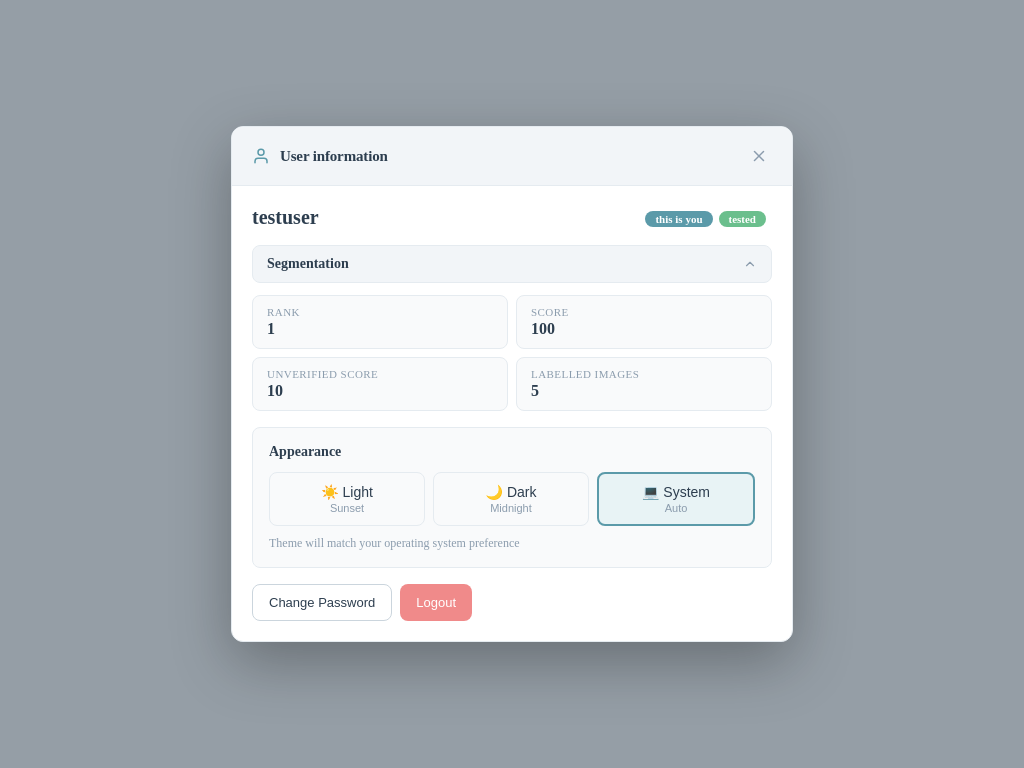
Test case: UserProfileModal - Password Change › allows canceling password change
The width and height of the screenshot is (1024, 768).
Click the button "Change Password" at [322, 602], box [252, 584, 392, 621]
(page scrolled)
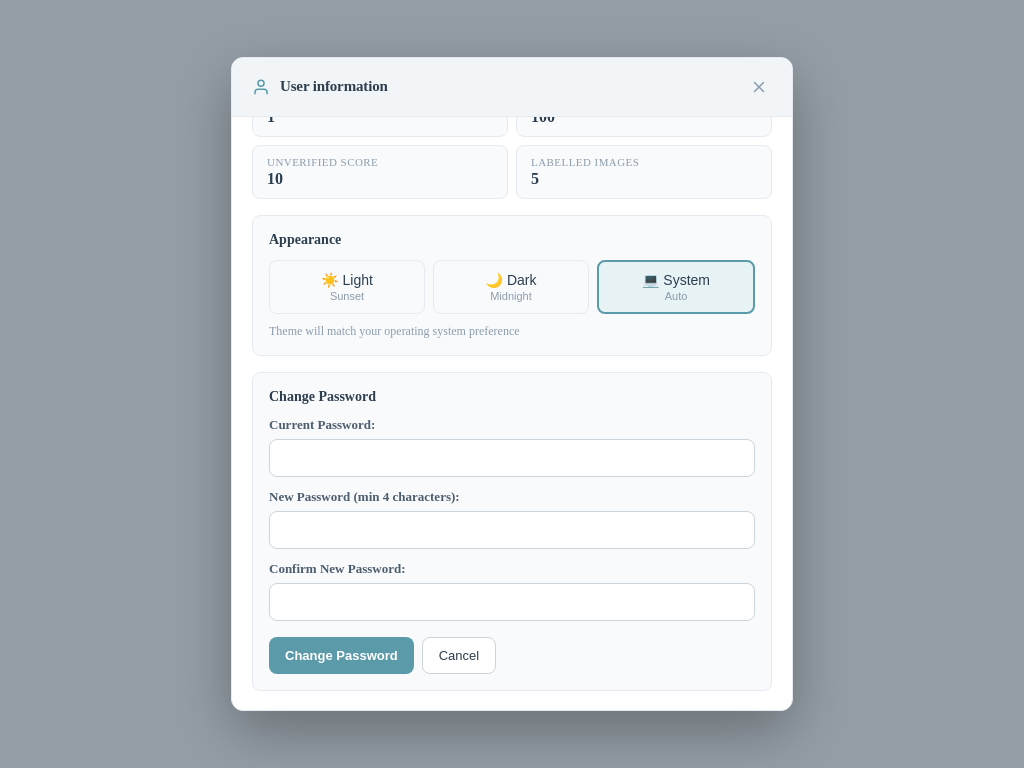
expect the password field labelled "Current Password:" is shown: met, box [269, 439, 755, 477]
Click the button "Cancel" at [459, 655], box [422, 637, 496, 674]
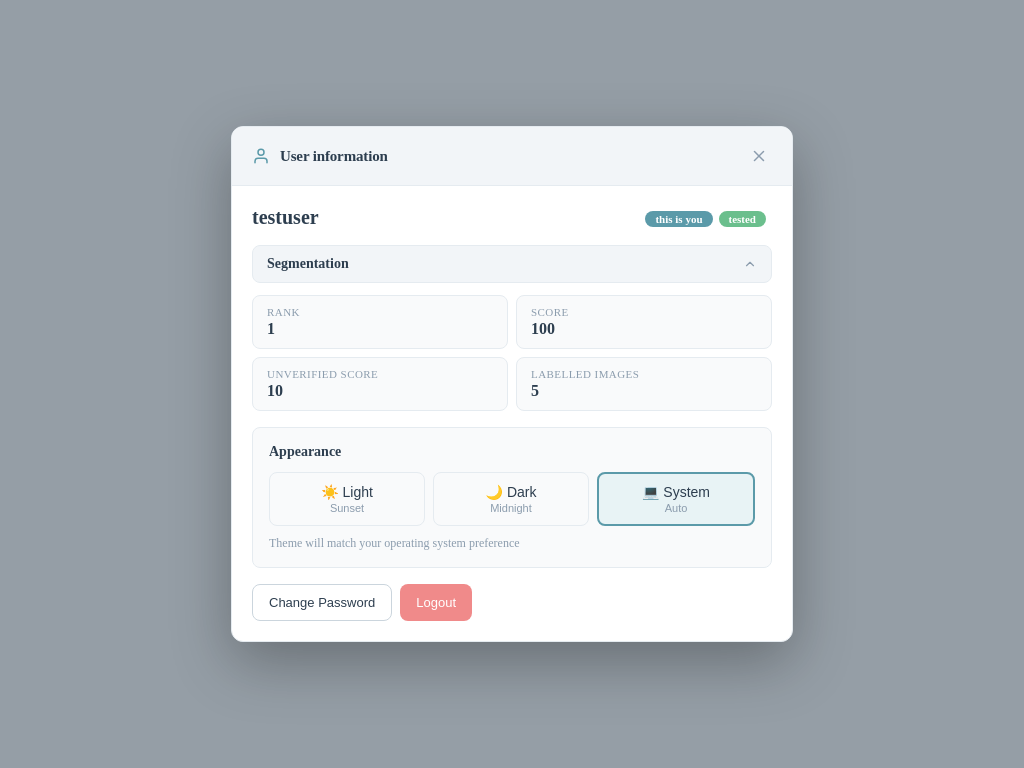
expect the button "Change Password" is shown: met, box [252, 584, 392, 621]
expect the label labelled "Current Password" is gone: met
